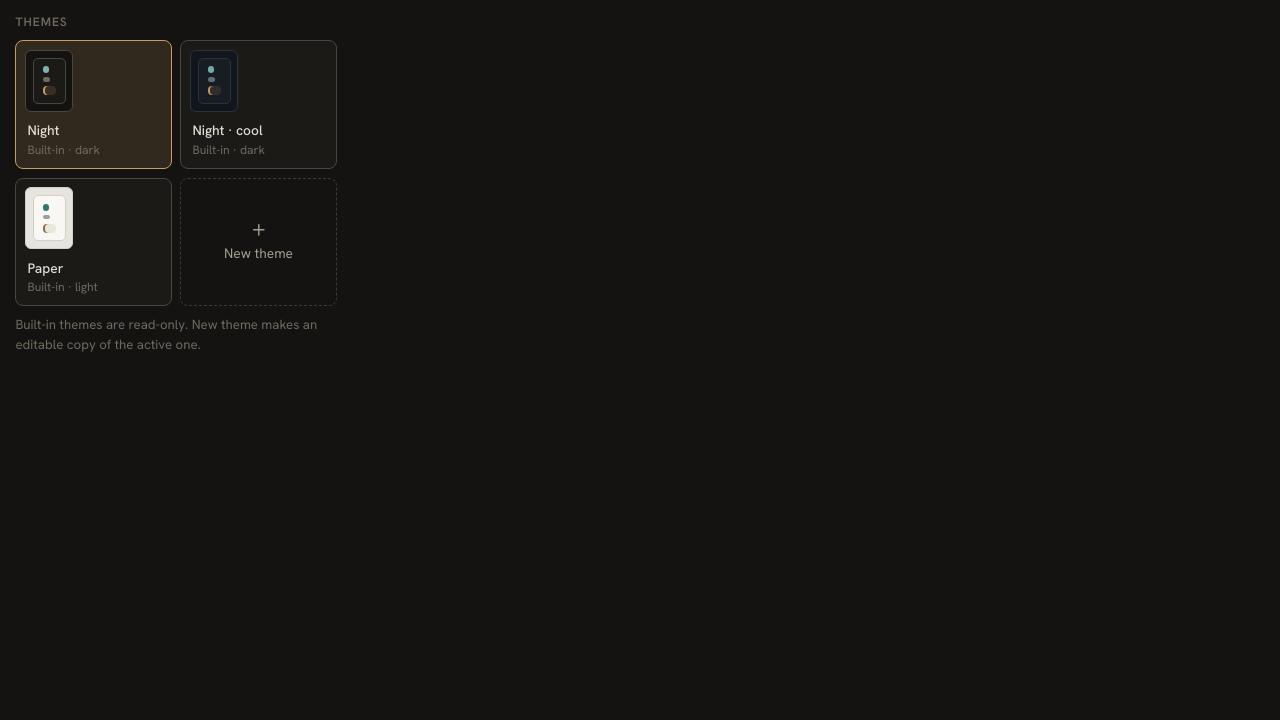
Test case: ThemeSection › "+" creates a user theme from the active one, selects it and opens the editor (S02)
The image size is (1280, 720).
Click the button "Paper Built-in · light" at (94,242), box x1=15 y1=178 x2=172 y2=306
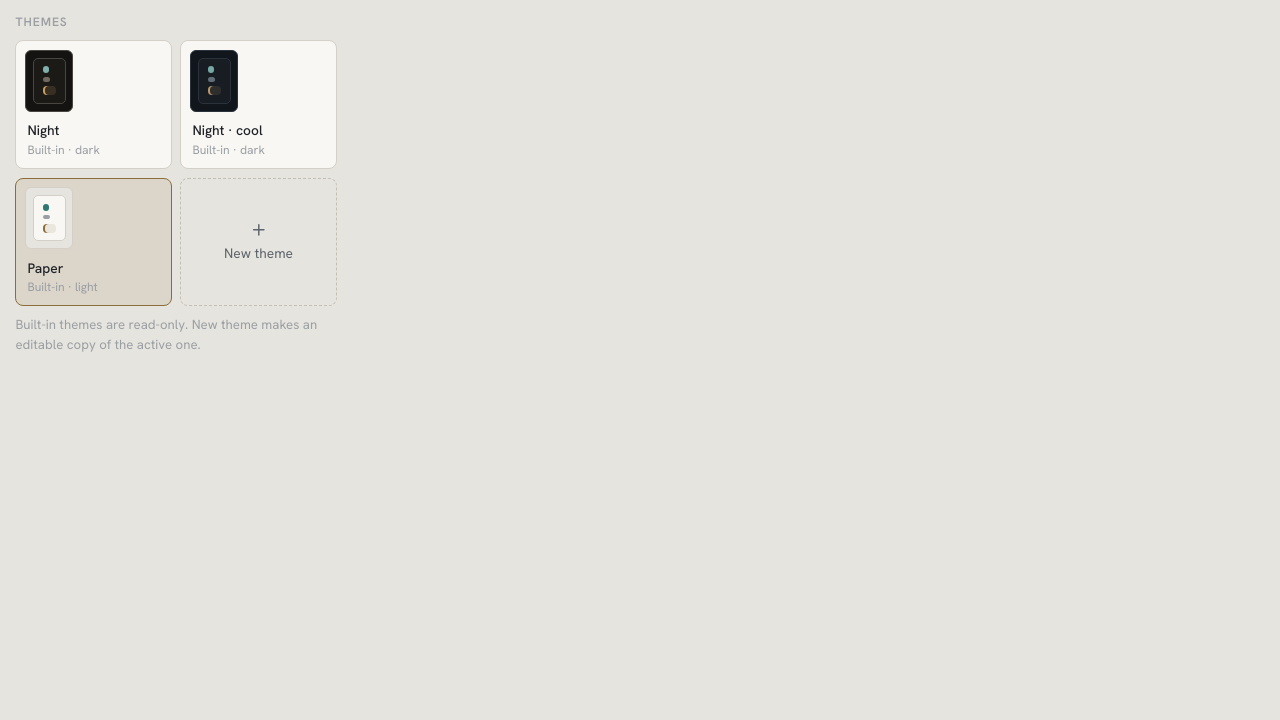
Click the button "New theme" at (258,242), box x1=180 y1=178 x2=337 y2=306
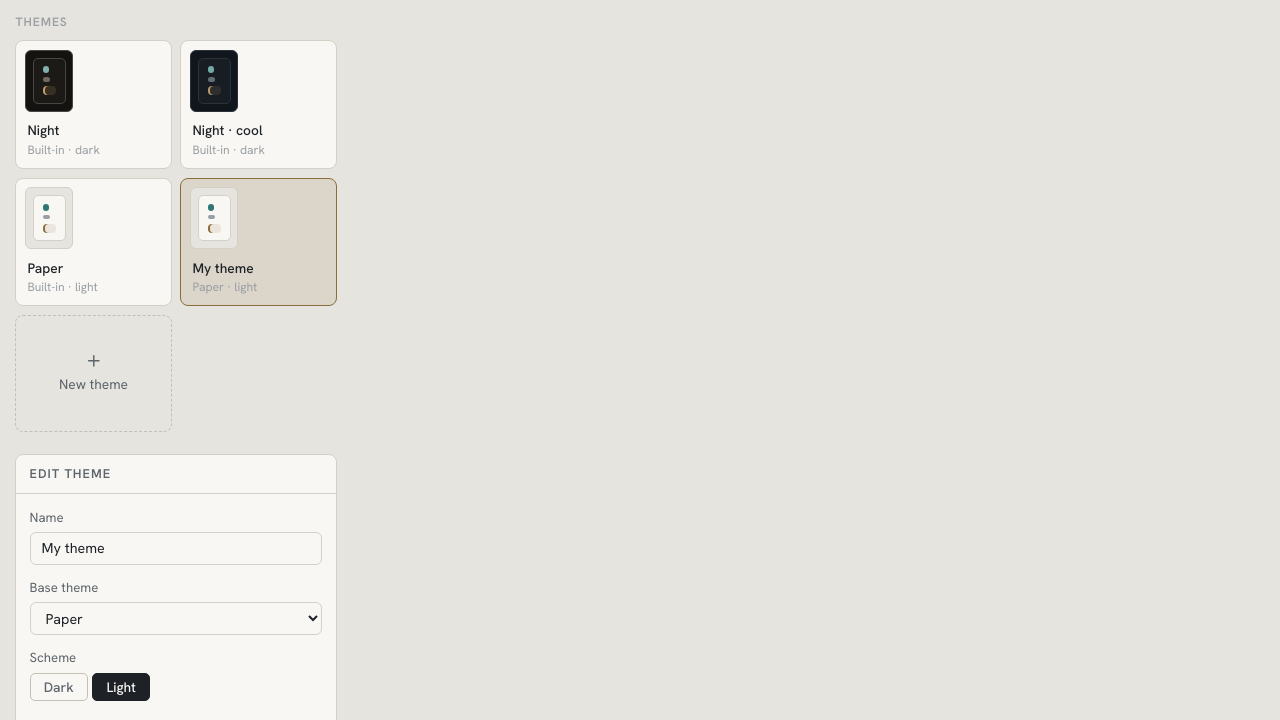
Expected: the button "My theme Paper · light" is shown, x1=180 y1=178 x2=337 y2=306
Expected: the dropdown labelled "Base theme" shows "Paper", x1=30 y1=602 x2=322 y2=635
Replace the text in the field labelled "Name" with "Dusk" at (176,548), box x1=30 y1=532 x2=322 y2=565
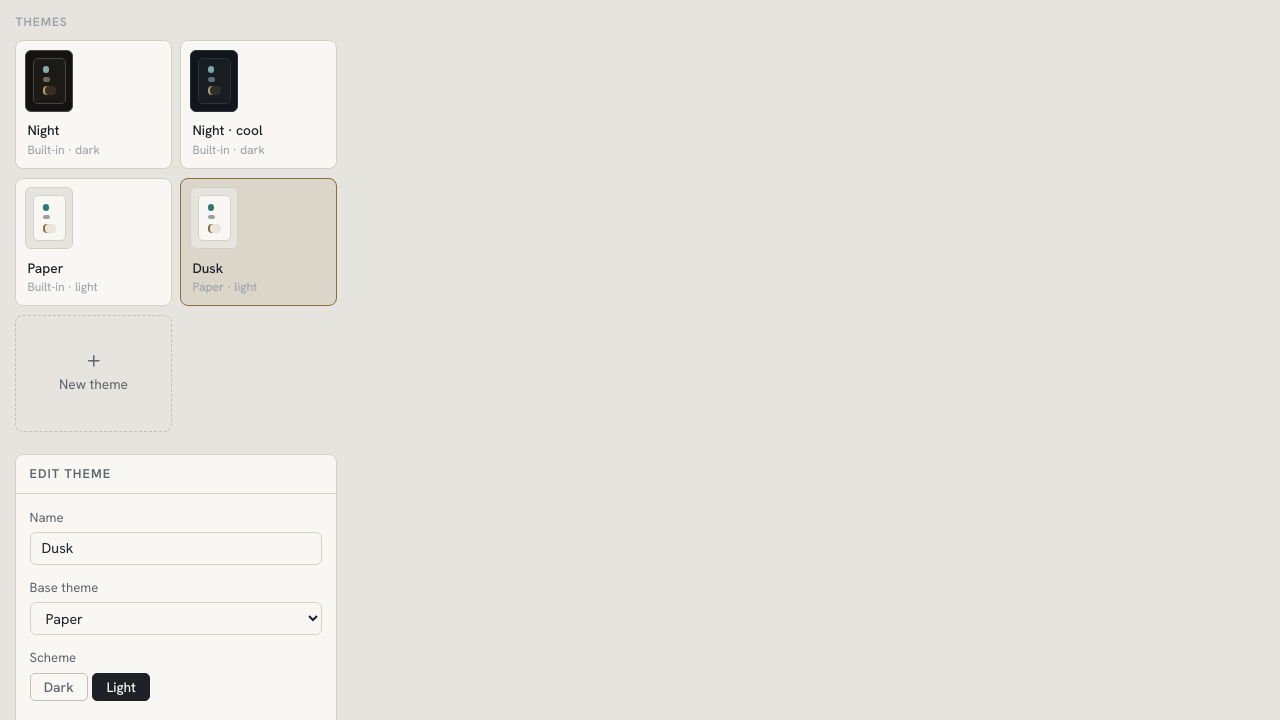
Expected: the button "Dusk Paper · light" is shown, x1=180 y1=178 x2=337 y2=306
